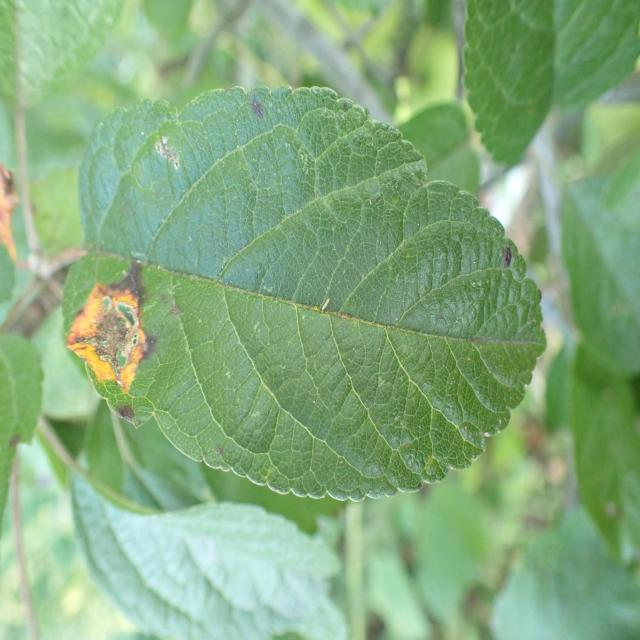rust: (60, 83, 547, 502)
